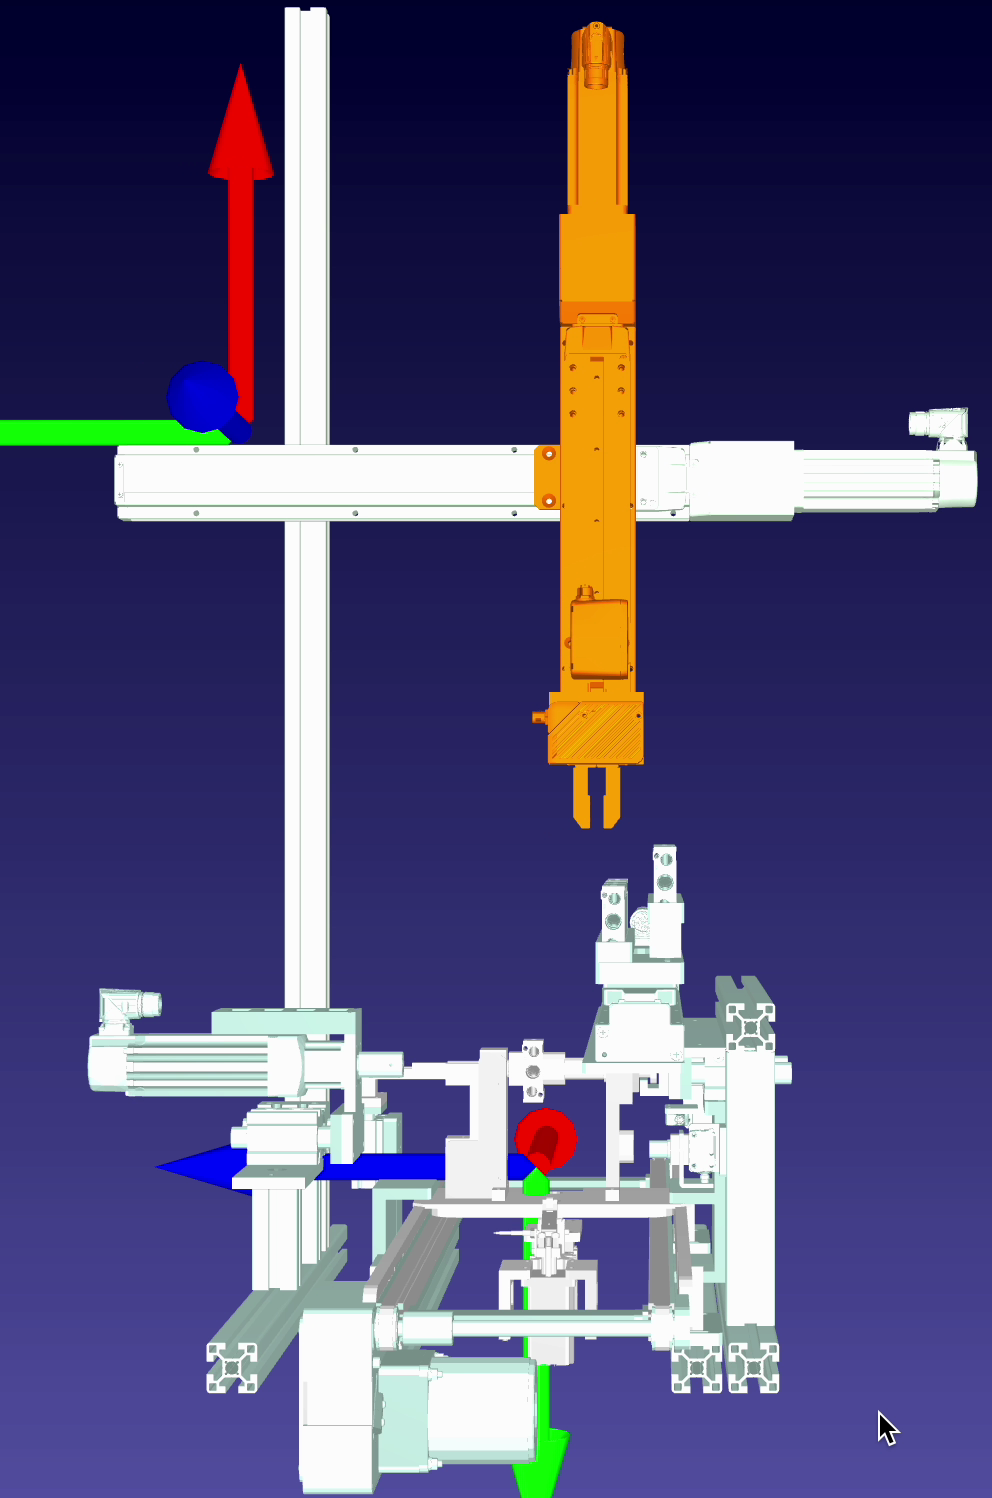Gripper: (533, 684, 654, 845)
